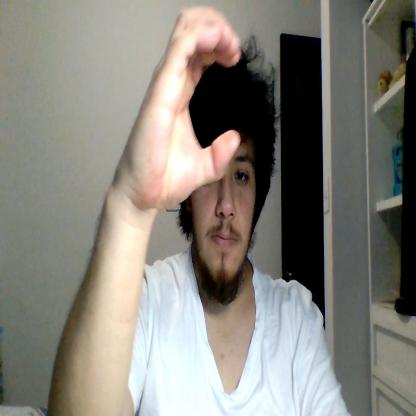C: (134, 7, 242, 204)
